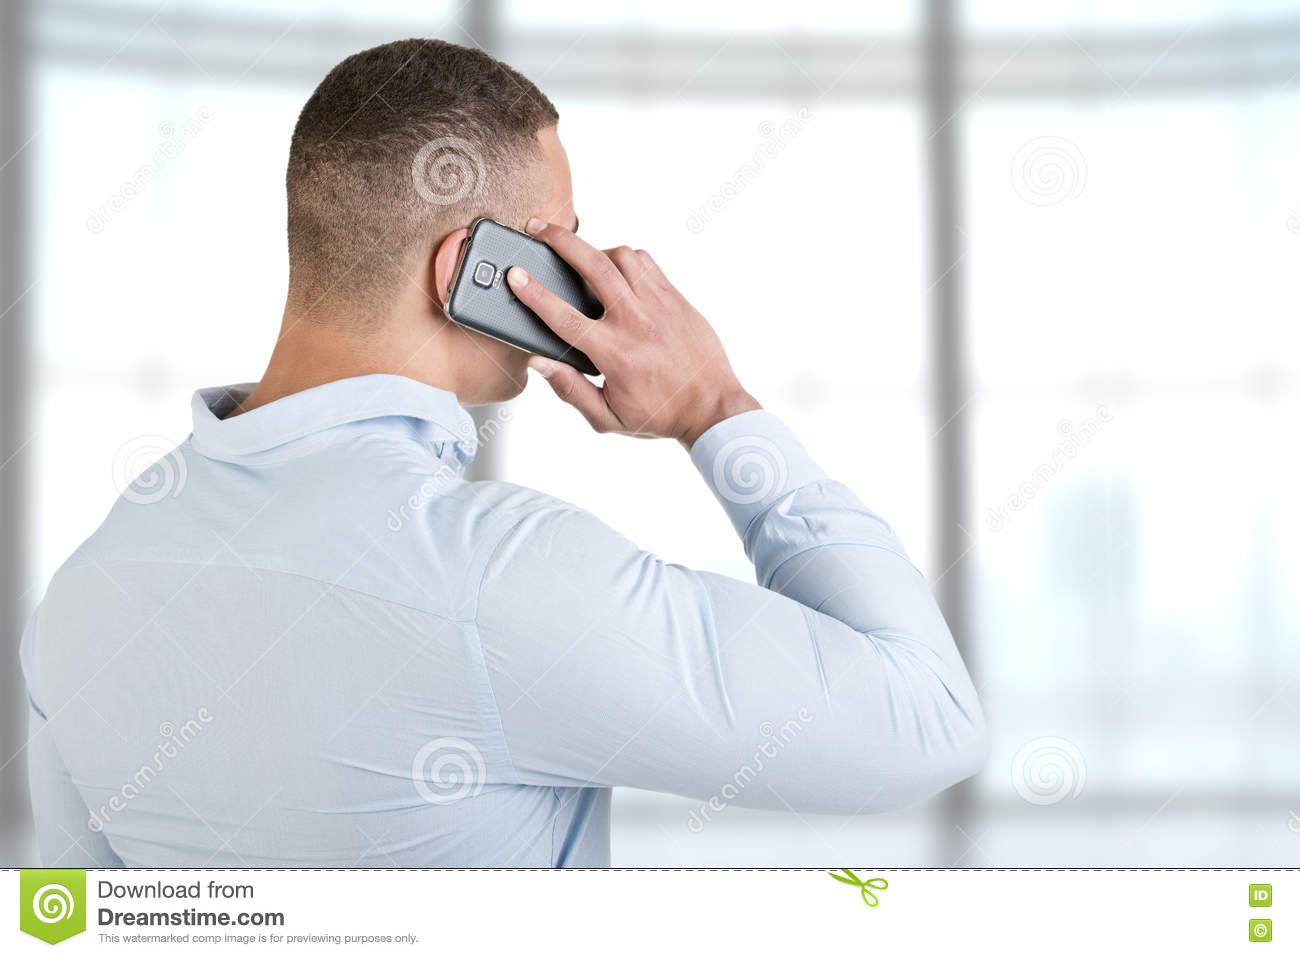phone: (444, 215, 617, 379)
